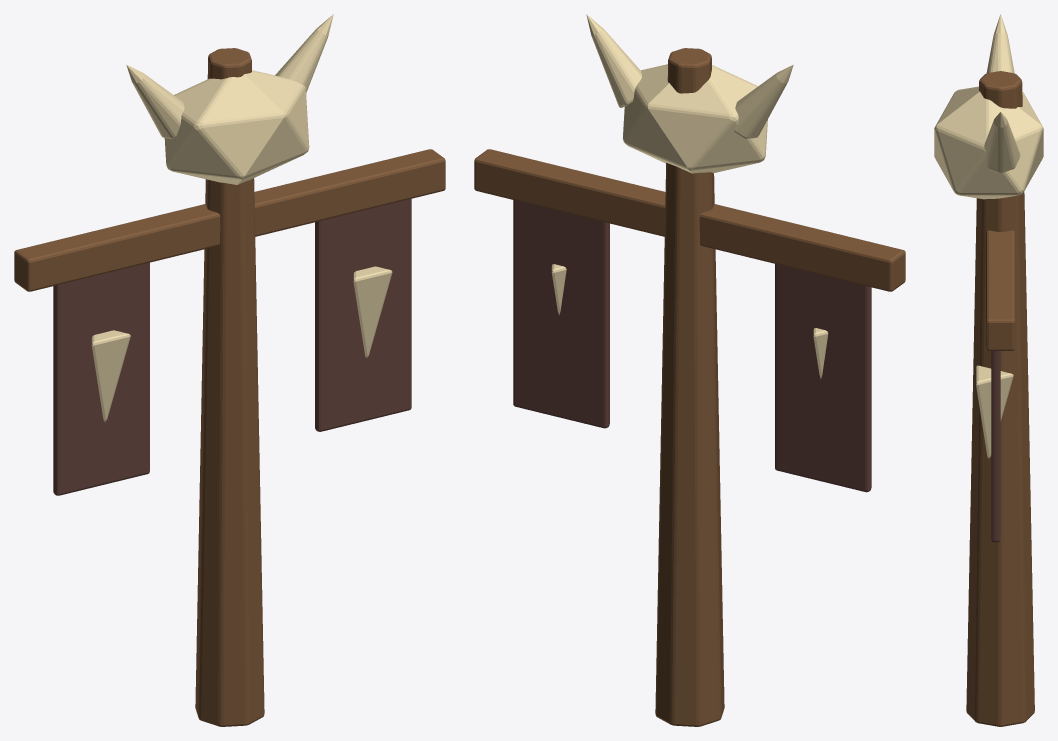
File: bandit_totem.glb
3 views of the same model, side by side, from view 1: azimuth 30°, elevation 25°; view 2: azimuth 150°, elevation 25°; view 3: azimuth 270°, elevation 25° (orthographic). The views are drawn at different scales.
Parts seen in each view (by area): view 1: TotemPole, HangingBanner, BannerFang; view 2: TotemPole, HangingBanner, BannerFang; view 3: TotemPole, BannerFang, HangingBanner.
Part boxes in pixels (bbox=[...]): TotemPole: bbox=[14, 48, 445, 726]; HangingBanner: bbox=[53, 199, 411, 495]; BannerFang: bbox=[91, 14, 392, 422]; TotemPole: bbox=[474, 48, 905, 726]; HangingBanner: bbox=[513, 200, 871, 492]; BannerFang: bbox=[551, 14, 828, 378]; TotemPole: bbox=[966, 71, 1034, 726]; BannerFang: bbox=[934, 14, 1043, 458]; HangingBanner: bbox=[991, 351, 1000, 542].
Bounding box in the file's own units: 4 × 6.15 × 0.9357.
